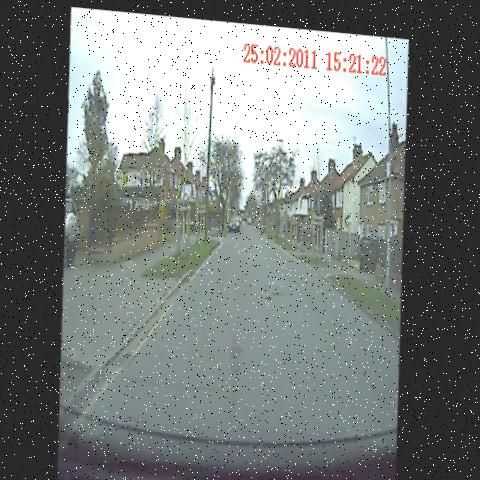pothole: (226, 327, 254, 379), (265, 280, 277, 309), (273, 280, 288, 296)
